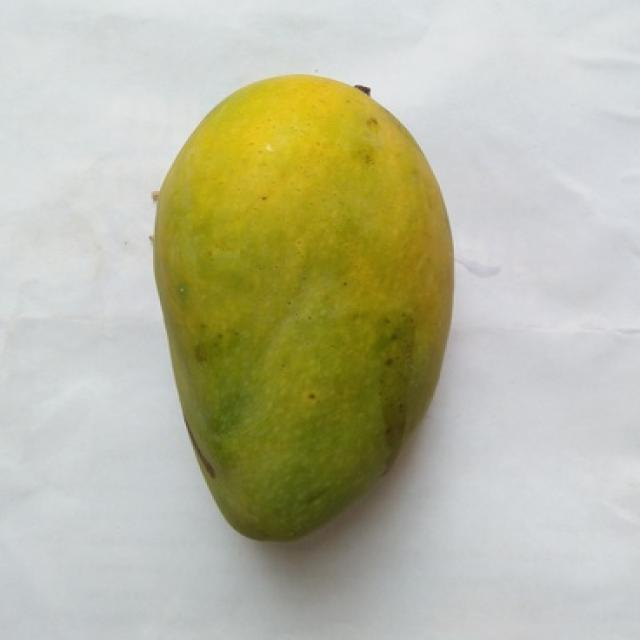Mango: (155, 76, 452, 540)
